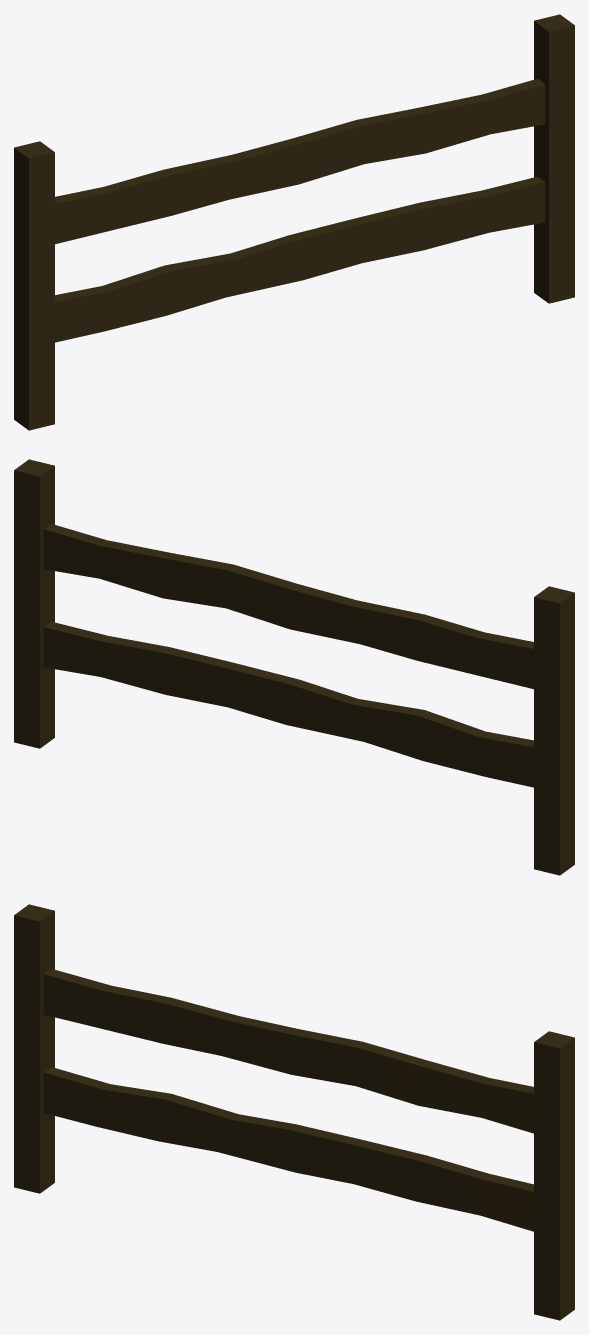
File: Fence.fbx
3 renders of one model, top to bottom at view 1: azimuth 30°, elevation 25°; view 2: azimuth 150°, elevation 25°; view 3: azimuth 330°, elevation 25°, orthographic.
Parts seen in each view (by area): view 1: pCube3, pCube4, pCube2, pCube1; view 2: pCube3, pCube4, pCube2, pCube1; view 3: pCube3, pCube4, pCube1, pCube2.
Part boxes in pixels (box(x1,y1,x2,y2)): pCube3: box(55, 176, 545, 342); pCube4: box(55, 78, 545, 244); pCube2: box(14, 141, 54, 430); pCube1: box(534, 14, 574, 303); pCube3: box(43, 621, 533, 787); pCube4: box(43, 523, 533, 689); pCube2: box(534, 586, 574, 875); pCube1: box(14, 459, 54, 748); pCube3: box(43, 1067, 533, 1231); pCube4: box(43, 968, 533, 1133); pCube1: box(534, 1031, 574, 1320); pCube2: box(14, 904, 54, 1193).
Bounding box in the file's own units: 10.5 × 5 × 0.5.
